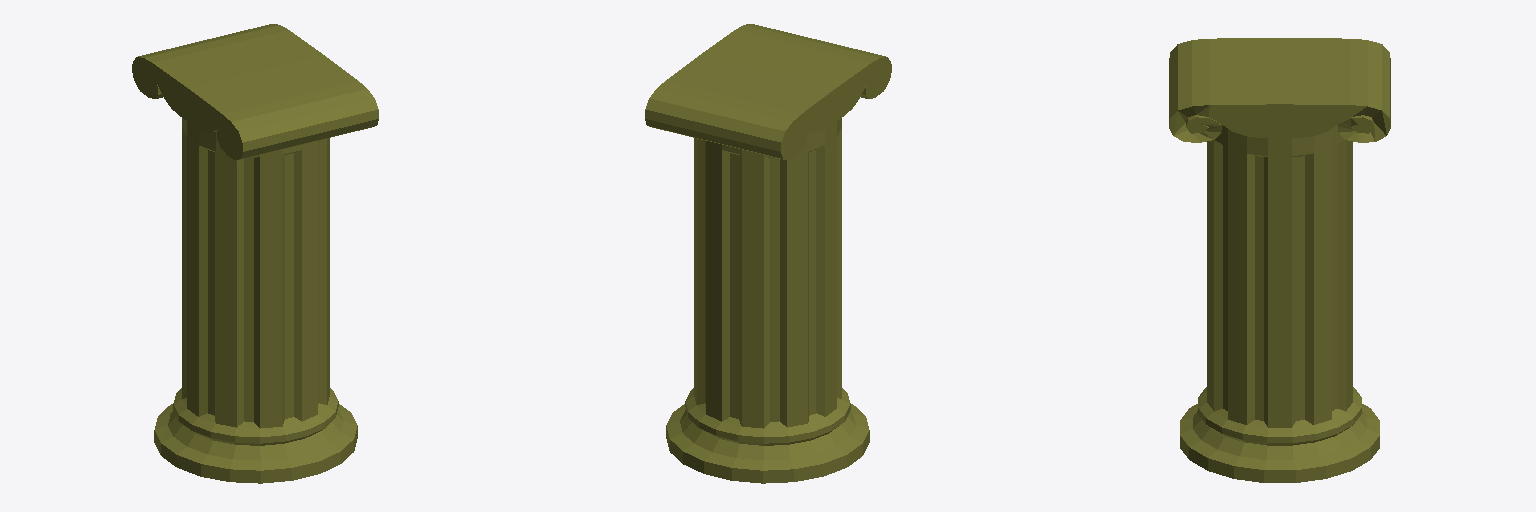
3 views of the same model, side by side, from view 1: azimuth 30°, elevation 25°; view 2: azimuth 150°, elevation 25°; view 3: azimuth 270°, elevation 25° (orthographic).
Visible parts, largest first — view 1: pavcolum; view 2: pavcolum; view 3: pavcolum.
Boxes of the visible parts, x1=… form: pavcolum: x1=132, y1=24, x2=378, y2=483; pavcolum: x1=645, y1=24, x2=891, y2=483; pavcolum: x1=1169, y1=38, x2=1390, y2=482.
Bounding box in the file's own units: 0.8478 × 1.72 × 0.9357.